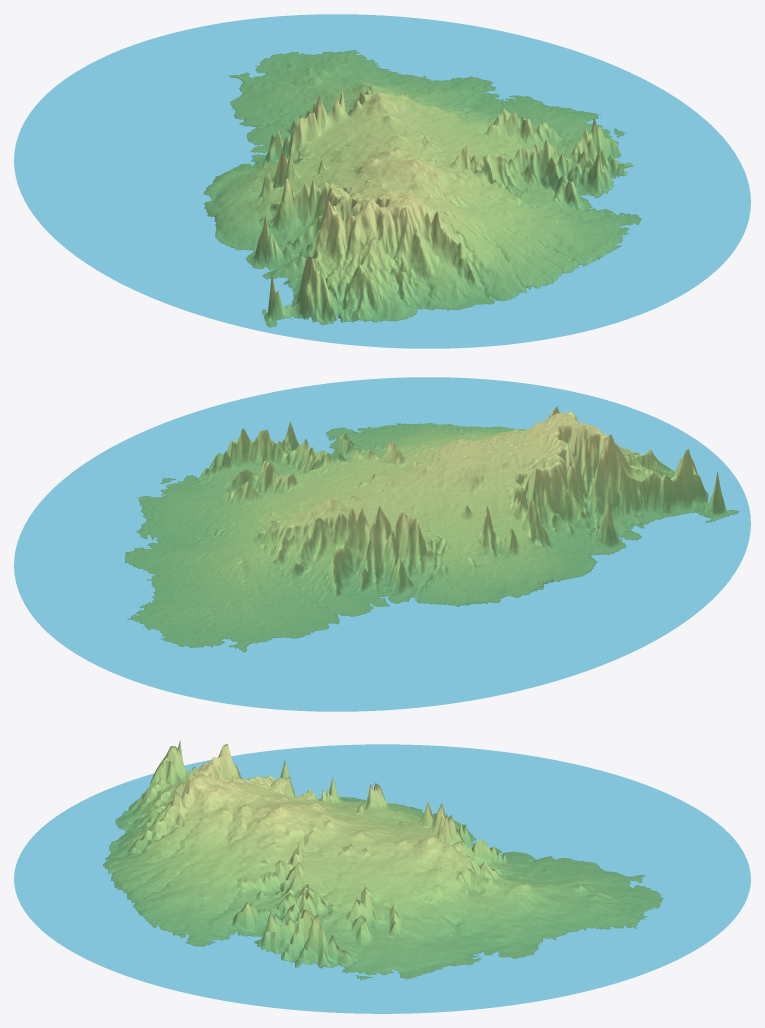
The model's file is MUS-terrain.glb.
3 views of the same model, one above another, from view 1: azimuth 30°, elevation 25°; view 2: azimuth 150°, elevation 25°; view 3: azimuth 270°, elevation 25° (orthographic). The views are drawn at different scales.
Visible parts, largest first — view 1: Relevo com hidrografia; view 2: Relevo com hidrografia; view 3: Relevo com hidrografia.
Boxes of the visible parts, <box> form: Relevo com hidrografia: <box>14,14,750,348</box>; Relevo com hidrografia: <box>14,377,750,711</box>; Relevo com hidrografia: <box>14,740,750,1013</box>.
Bounding box in the file's own units: 1.83 × 0.2319 × 2.11.
Materials: 2 (1 with a texture image).
